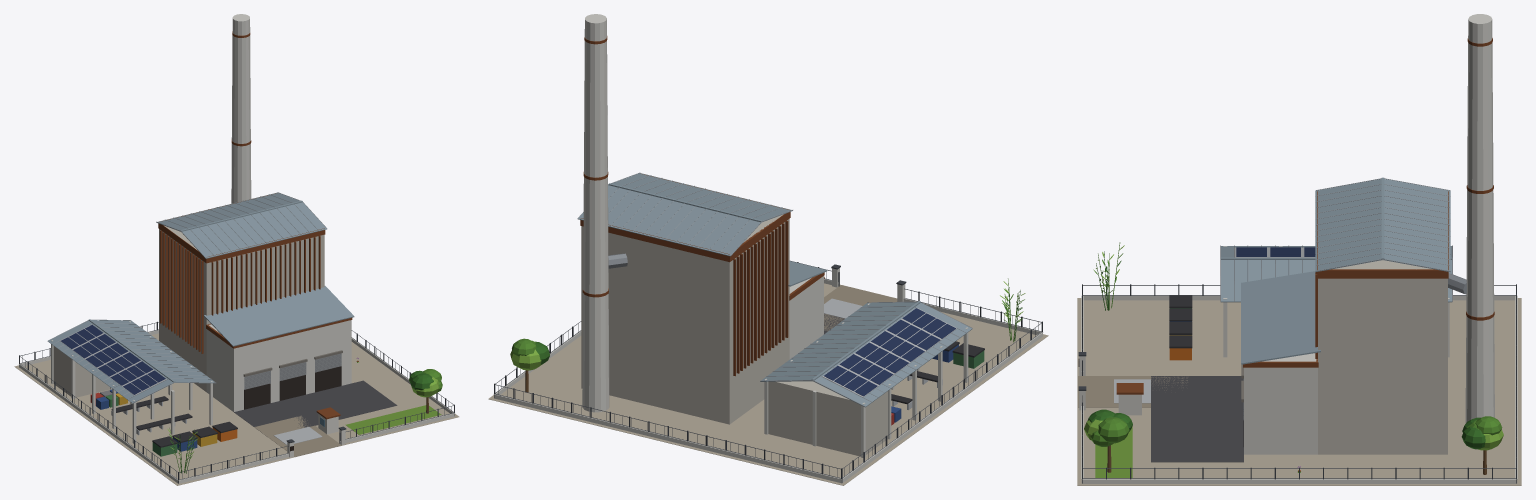
Rendered from waste.glb.
The picture shows the model from 3 angles, left to right: view 1: azimuth 30°, elevation 25°; view 2: azimuth 150°, elevation 25°; view 3: azimuth 270°, elevation 25°; orthographic projection. The views are drawn at different scales.
Visible parts, largest first — view 1: body, windows; view 2: body; view 3: body.
Boxes of the visible parts, x1,y1,x2,y2 form: body: [14, 14, 459, 485]; windows: [244, 366, 341, 409]; body: [488, 14, 1048, 485]; body: [1077, 14, 1521, 485].
Bounding box in the file's own units: 47.9 × 50.15 × 47.9.
